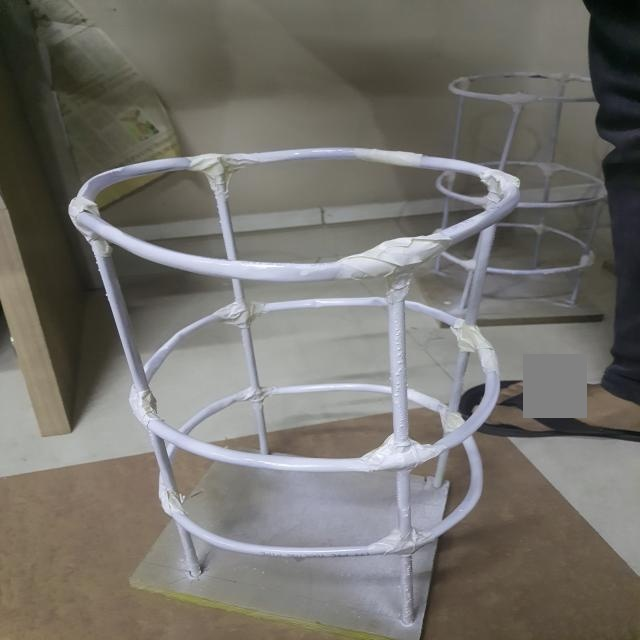silo: (72, 147, 471, 626), (427, 71, 604, 329)
